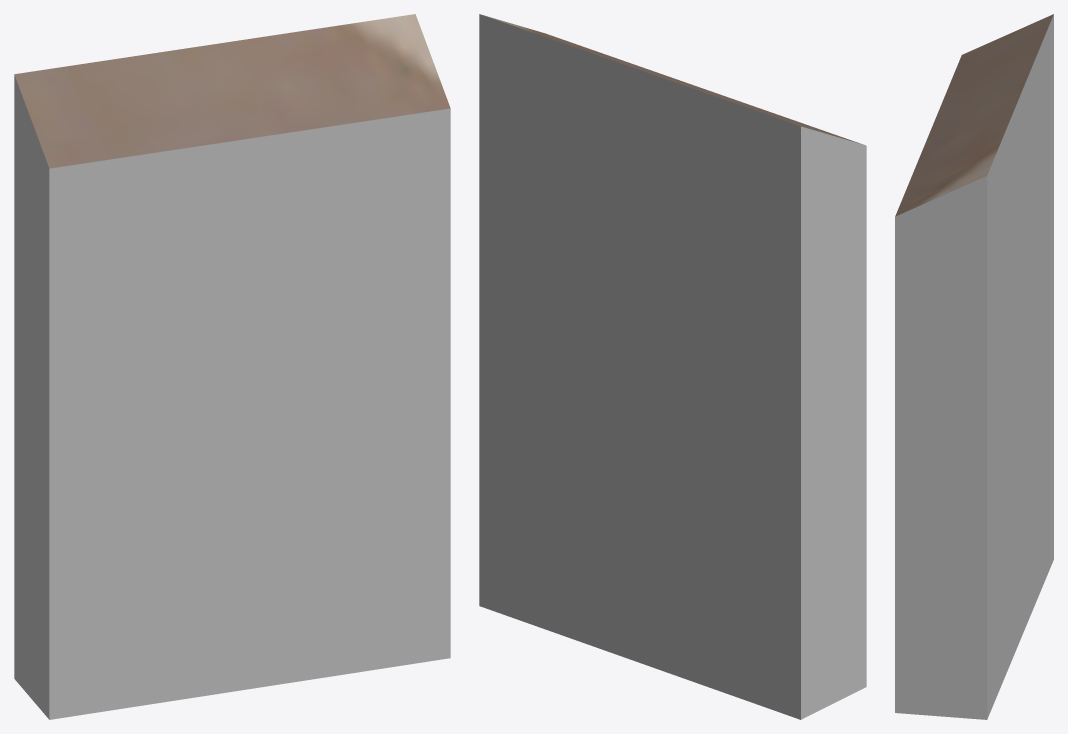
File: DEBW_0010007THZX.gltf
3 renders of one model, left to right at view 1: azimuth 30°, elevation 25°; view 2: azimuth 150°, elevation 25°; view 3: azimuth 270°, elevation 25°, orthographic. The views are drawn at different scales.
Parts seen in each view (by area): view 1: Z_UP; view 2: Z_UP; view 3: Z_UP.
Part boxes in pixels (<box>): Z_UP: <box>14,14,450,719</box>; Z_UP: <box>479,14,866,719</box>; Z_UP: <box>895,14,1053,719</box>.
Bounding box in the file's own units: 7.18 × 10.91 × 2.88.
2 materials, 1 textured.
